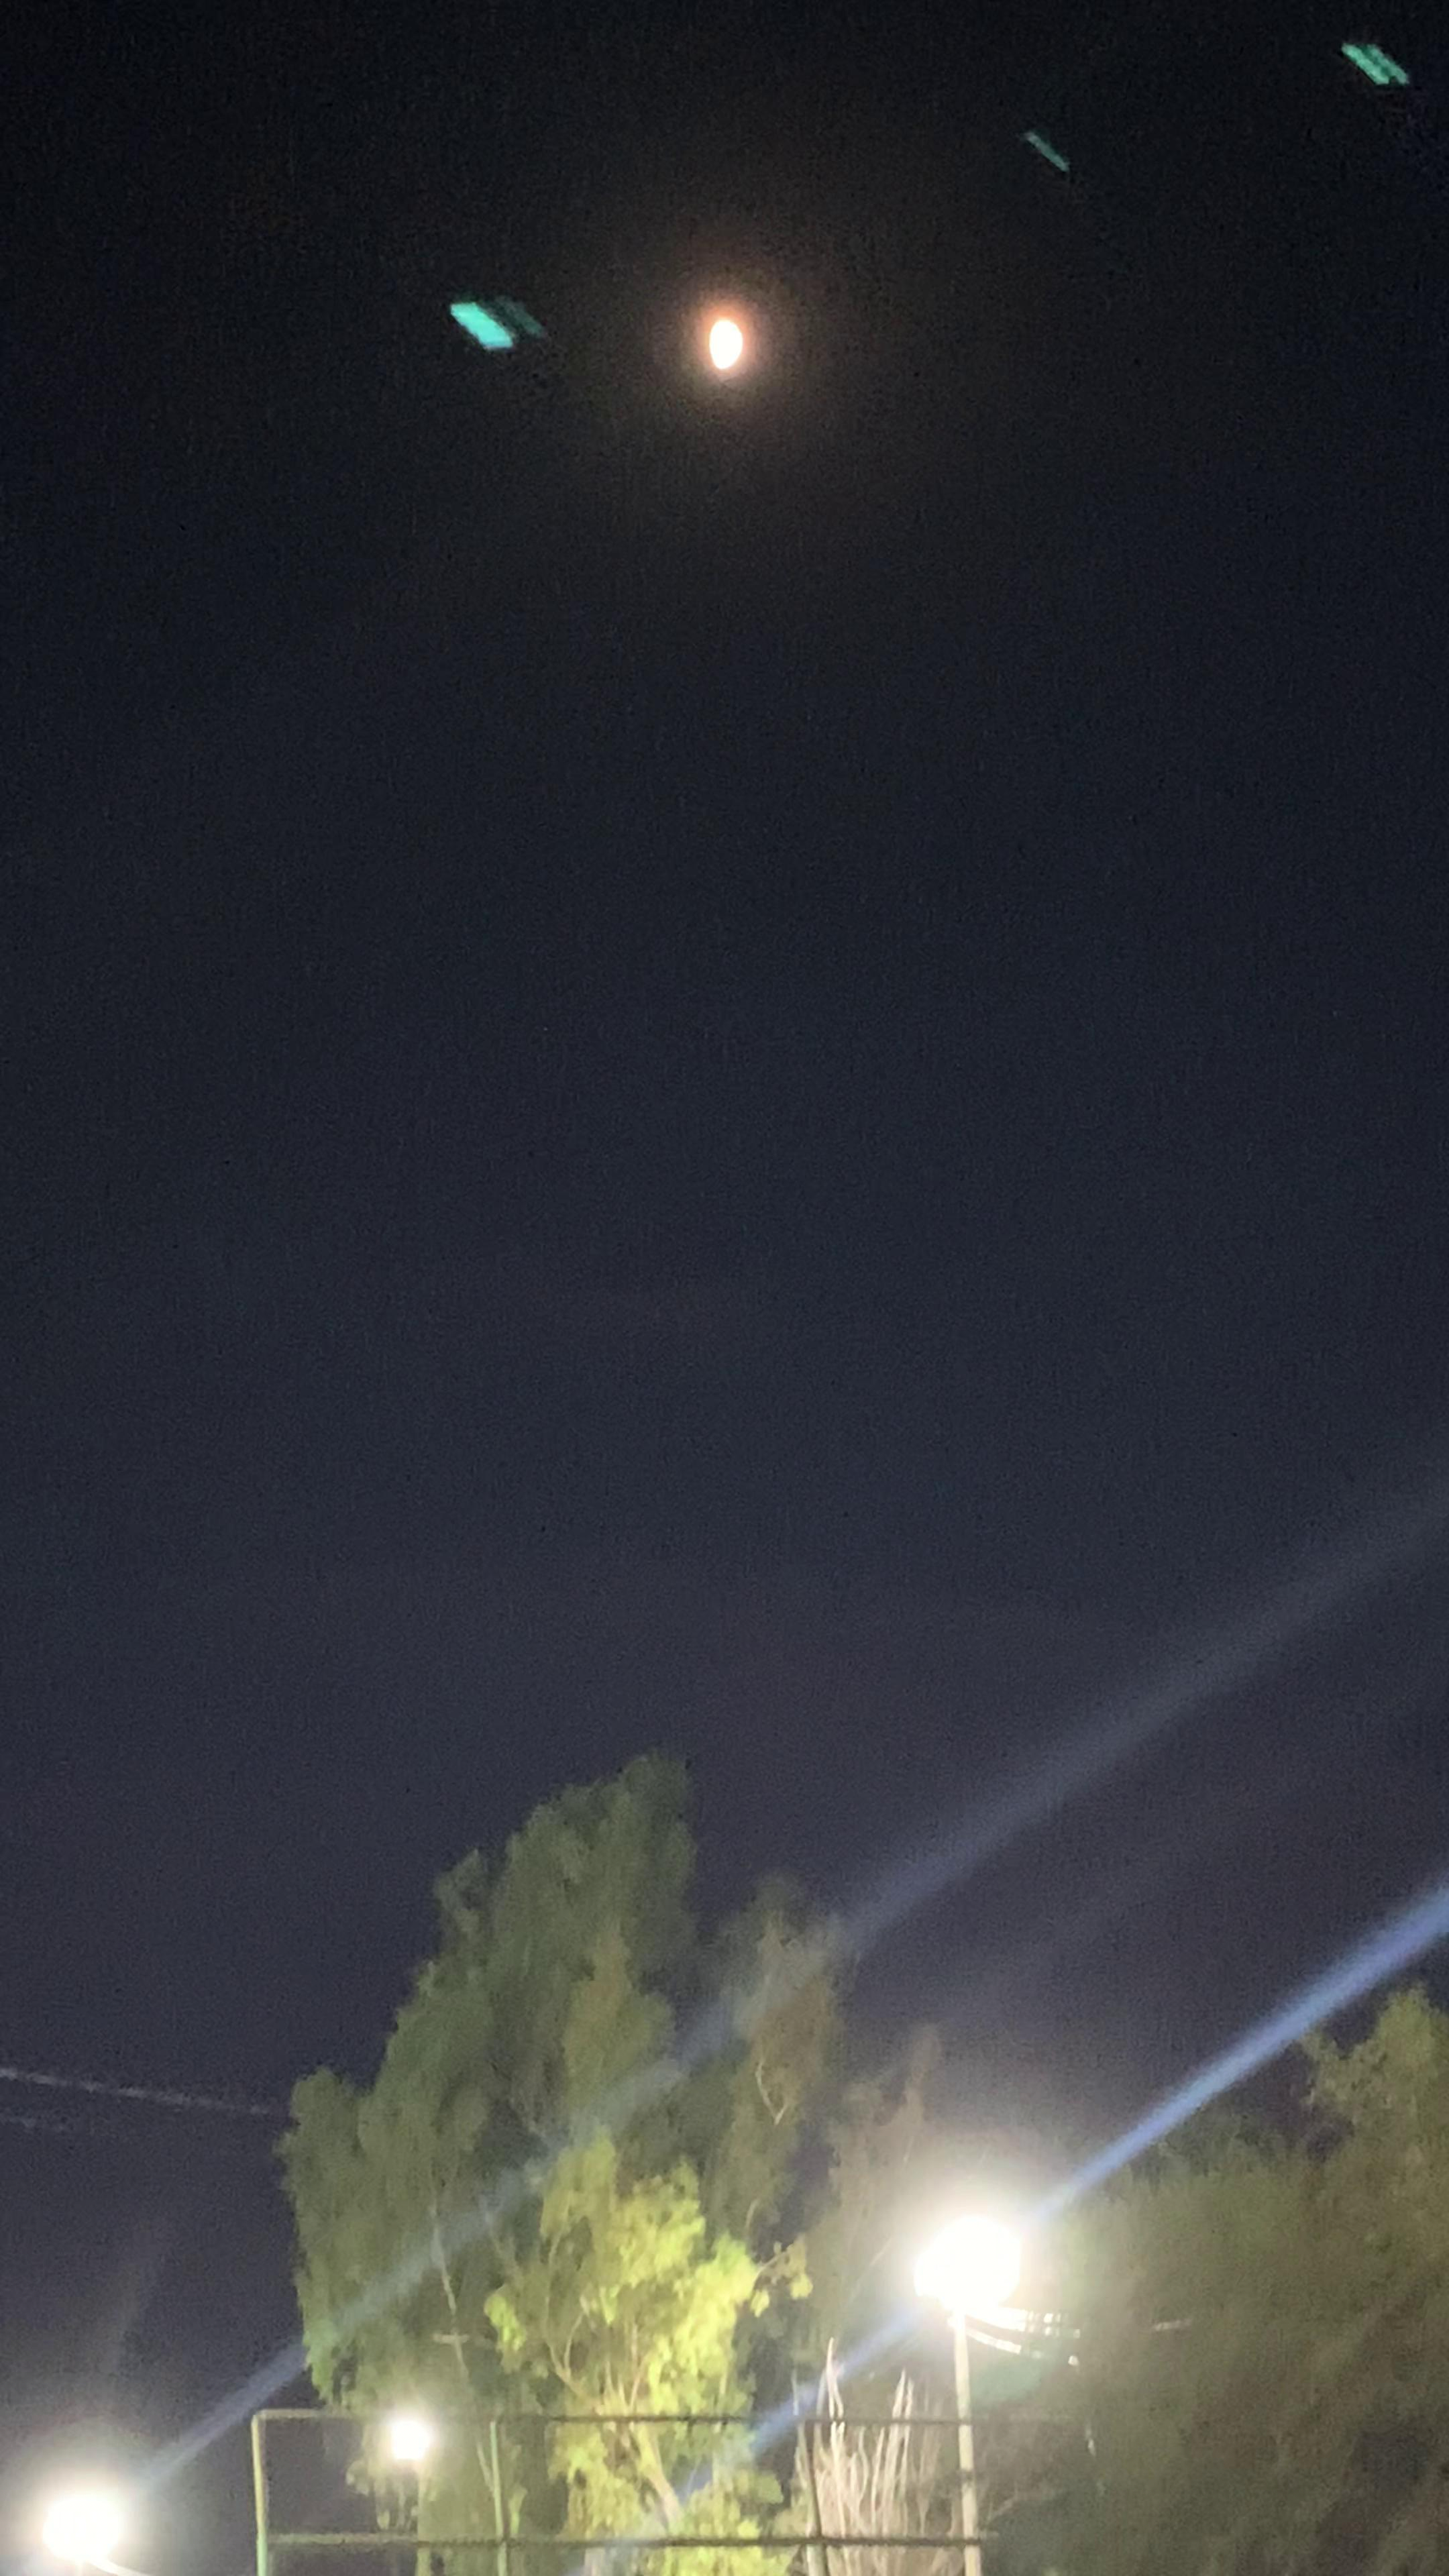moon: (658, 278, 819, 425)
